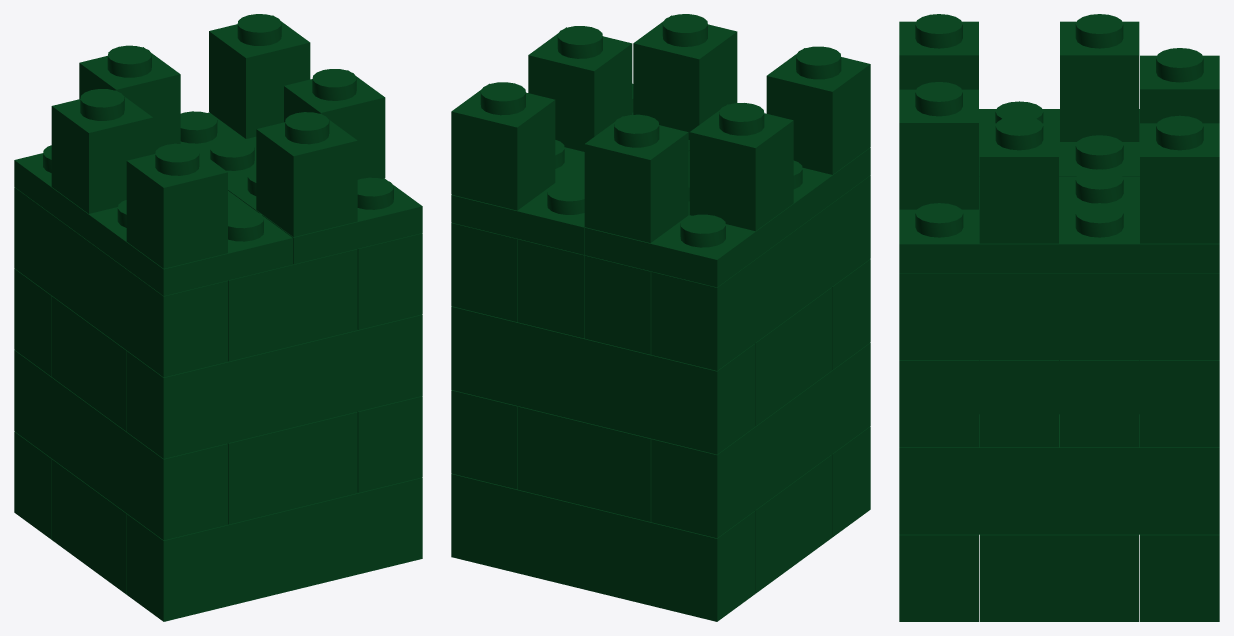
The model's file is build.glb.
The picture shows the model from 3 angles, left to right: view 1: azimuth 30°, elevation 25°; view 2: azimuth 150°, elevation 25°; view 3: azimuth 270°, elevation 25°; orthographic projection. The views are drawn at different scales.
Visible parts, largest first — view 1: 3010.dat (×8), 3005.dat (×6), 3004.dat (×4), 3020.dat (×2); view 2: 3010.dat (×8), 3005.dat (×8), 3004.dat (×3), 3020.dat (×2); view 3: 3010.dat (×6), 3005.dat (×8), 3020.dat (×2), 3004.dat.
Boxes of the visible parts, <box> form: 3010.dat (×8): <box>14,187,422,621</box>; 3005.dat (×6): <box>51,14,385,268</box>; 3004.dat (×4): <box>51,249,357,594</box>; 3020.dat (×2): <box>14,111,422,295</box>; 3010.dat (×8): <box>451,175,870,621</box>; 3005.dat (×8): <box>451,14,870,354</box>; 3004.dat (×3): <box>518,287,832,593</box>; 3020.dat (×2): <box>451,83,870,287</box>; 3010.dat (×6): <box>899,273,1219,621</box>; 3005.dat (×8): <box>899,14,1219,447</box>; 3020.dat (×2): <box>899,101,1219,272</box>; 3004.dat: <box>979,534,1139,621</box>.
Size of the model in its own units: 0.0319 by 0.0527 by 0.0319.
